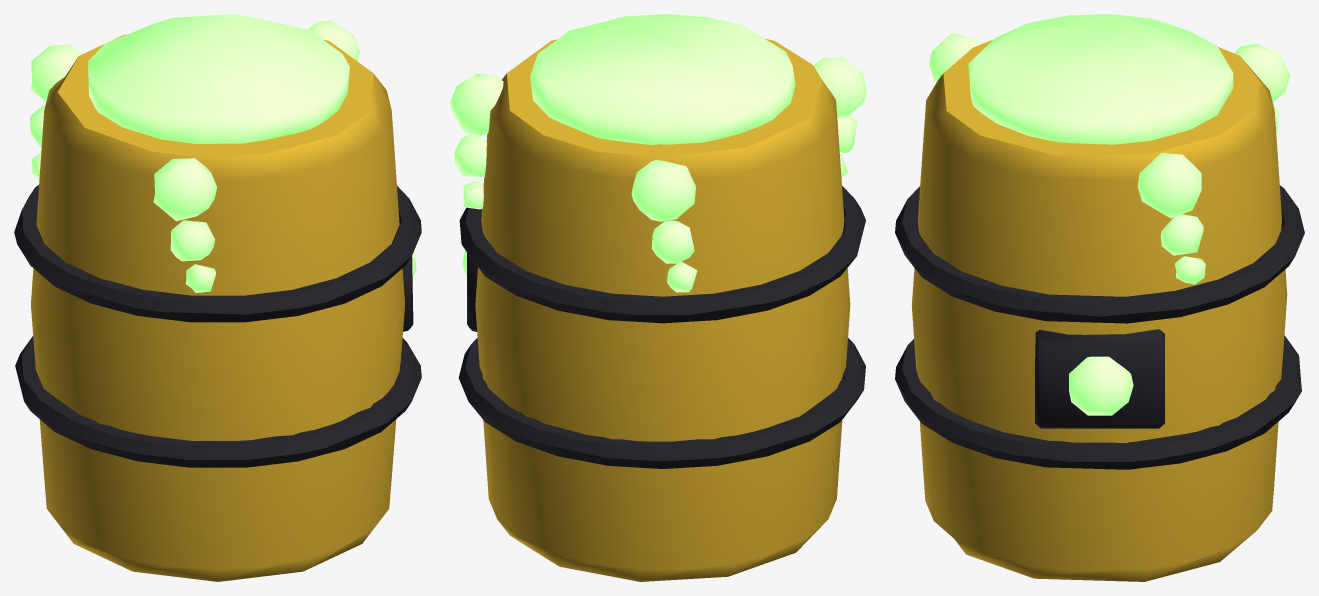
The model's file is toxic_barrel.glb.
The picture shows the model from 3 angles, left to right: view 1: azimuth 30°, elevation 25°; view 2: azimuth 150°, elevation 25°; view 3: azimuth 270°, elevation 25°; orthographic projection.
Parts seen in each view (by area): view 1: toxic_barrel; view 2: toxic_barrel; view 3: toxic_barrel.
Part boxes in pixels (x1=…): toxic_barrel: x1=14, y1=14, x2=421, y2=581; toxic_barrel: x1=450, y1=14, x2=866, y2=581; toxic_barrel: x1=895, y1=14, x2=1304, y2=581.
Bounding box in the file's own units: 0.6443 × 0.7385 × 0.6097.
Materials: 1 (1 with a texture image).
